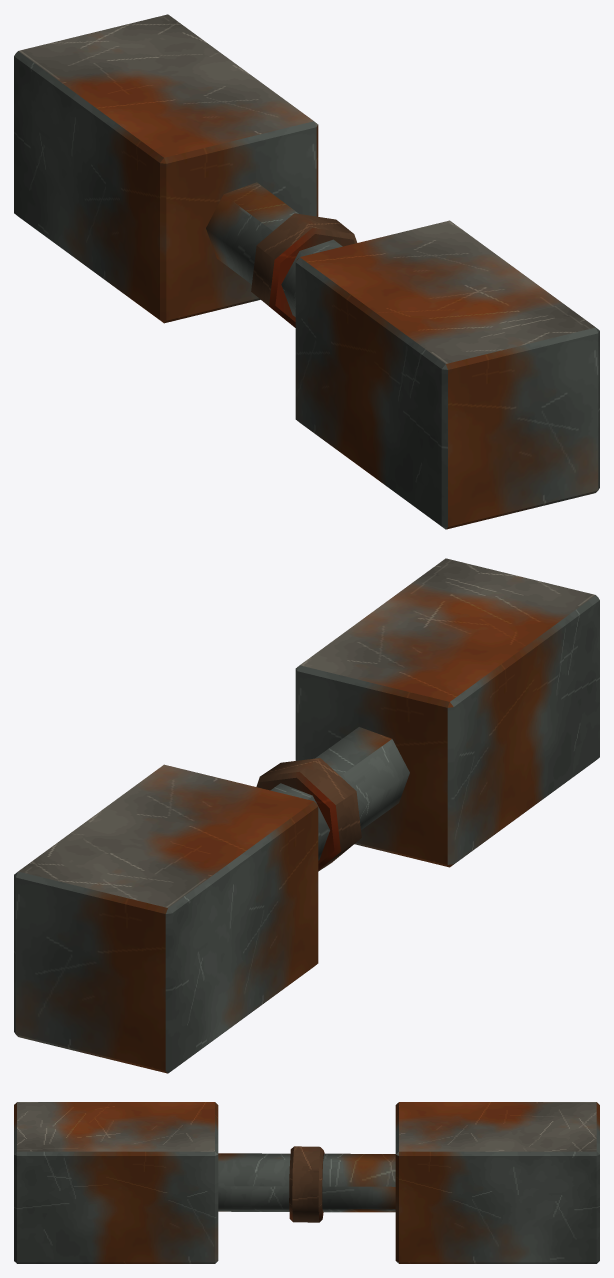
The model's file is R4C_ROD_SHORT_LOD1.glb.
3 renders of one model, top to bottom at view 1: azimuth 30°, elevation 25°; view 2: azimuth 150°, elevation 25°; view 3: azimuth 270°, elevation 25°, orthographic. The views are drawn at different scales.
Parts seen in each view (by area): view 1: R4C_ROD_SHORT_LOD1; view 2: R4C_ROD_SHORT_LOD1; view 3: R4C_ROD_SHORT_LOD1.
Part boxes in pixels (bbox=[...]): R4C_ROD_SHORT_LOD1: bbox=[14, 14, 599, 529]; R4C_ROD_SHORT_LOD1: bbox=[14, 558, 599, 1073]; R4C_ROD_SHORT_LOD1: bbox=[14, 1102, 599, 1263].
Bounding box in the file's own units: 0.226 × 0.226 × 1.07.
Materials: 3 (3 with a texture image).
